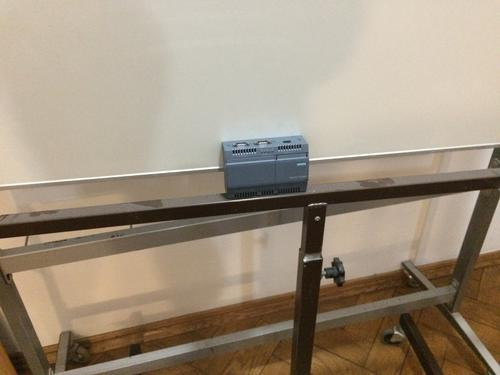iot2000: (222, 135, 310, 201)
